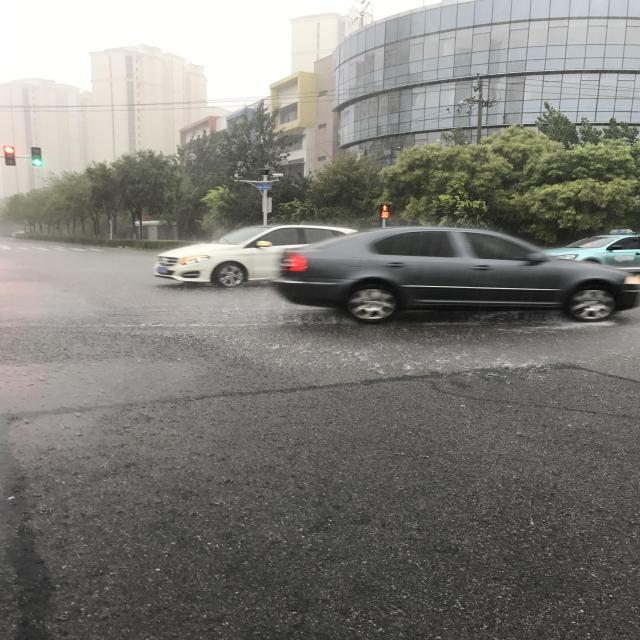car: (226, 0, 323, 361), (224, 262, 288, 486), (229, 0, 276, 97)
